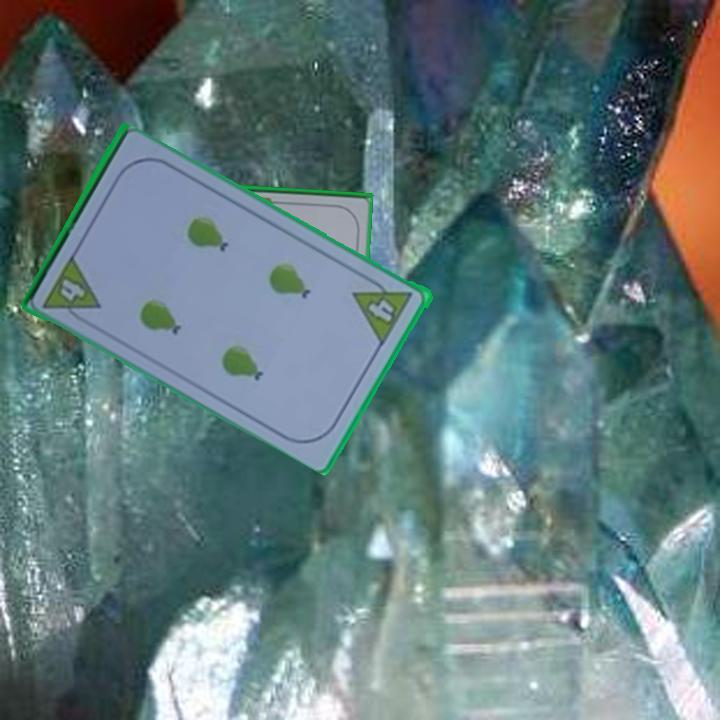4p: (350, 270, 417, 347), (39, 252, 105, 329)
